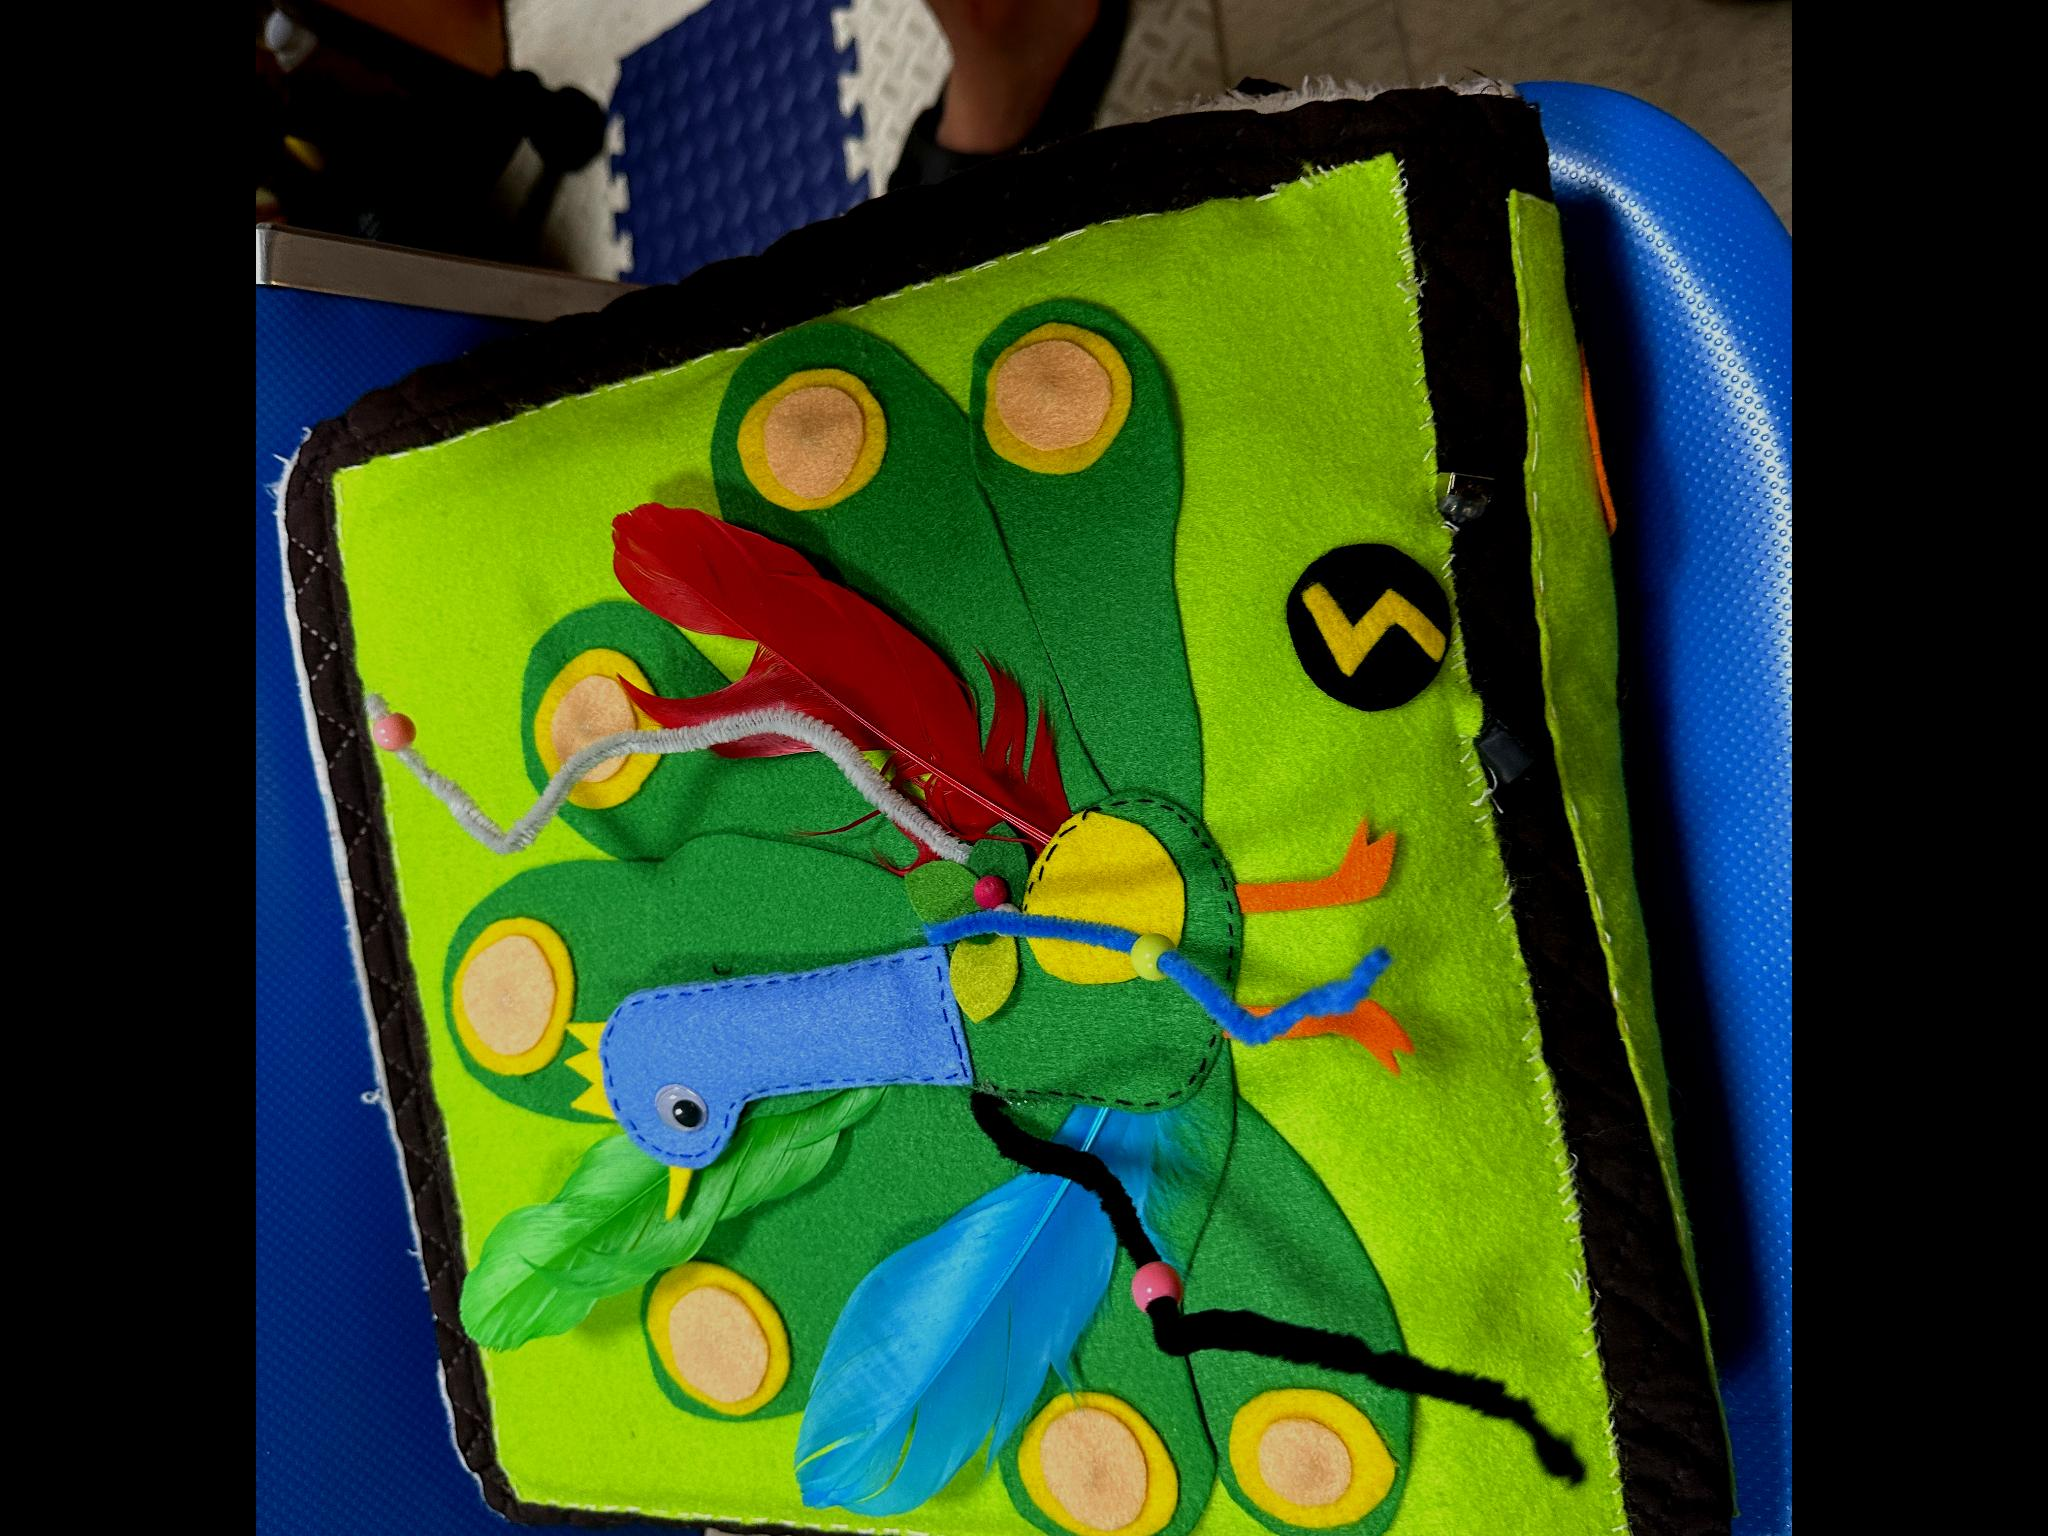bead: (1118, 1242, 1200, 1320), (363, 694, 445, 760), (1118, 928, 1190, 992)
